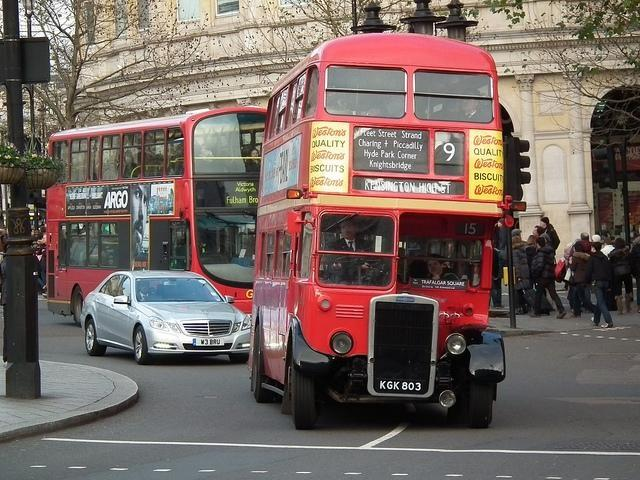bus: (248, 31, 506, 432), (46, 107, 270, 324)
car: (83, 268, 252, 368)
